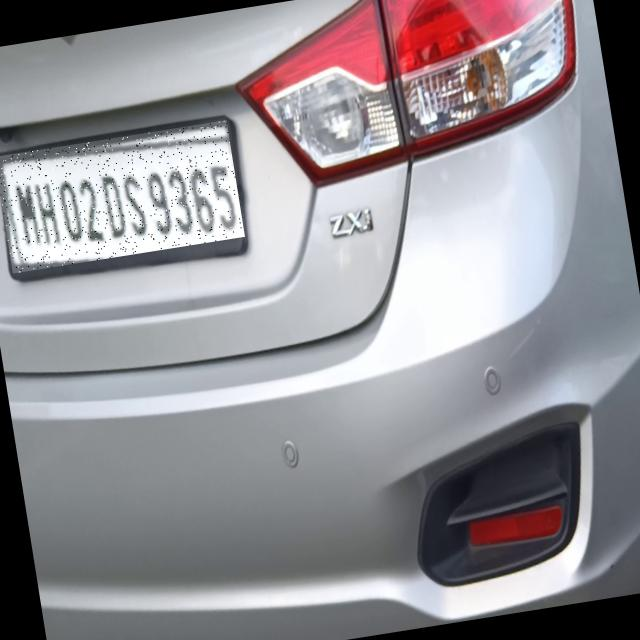Plate: (1, 122, 246, 275)
